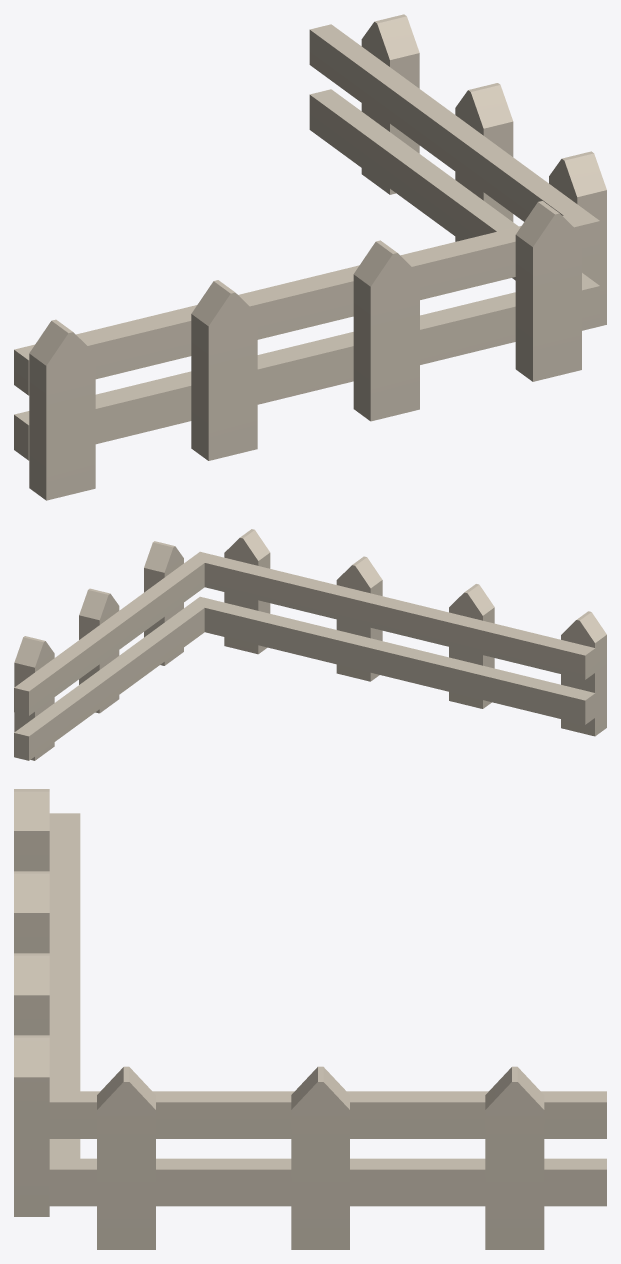
File: fence white right.fbx
3 renders of one model, top to bottom at view 1: azimuth 30°, elevation 25°; view 2: azimuth 150°, elevation 25°; view 3: azimuth 270°, elevation 25°, orthographic. The views are drawn at different scales.
Visible parts, largest first — view 1: fence_white_left; view 2: fence_white_left; view 3: fence_white_left.
Part boxes in pixels (bbox=[...]): fence_white_left: bbox=[14, 14, 606, 500]; fence_white_left: bbox=[14, 529, 606, 760]; fence_white_left: bbox=[14, 789, 606, 1249].
Size of the model in its own units: 408 by 105 by 336.
Materials: 1 (1 with a texture image).
